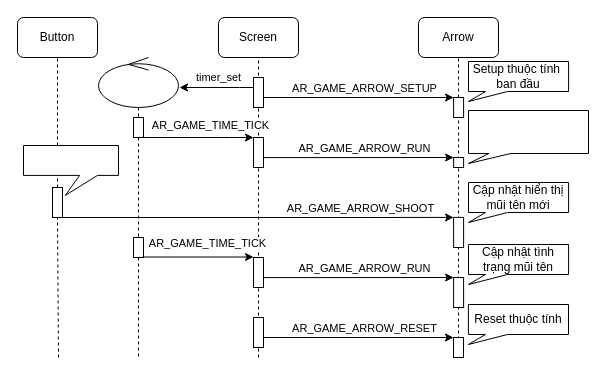
The diagram is 606 pixels wide and 376 high, and some of its shapes have lost their labels. The centre of each missing label's shape, as x and y in pixels:
"button [Mode]" belongs at point (70, 169).
"Cập nhật tình trạng mũi tên nhưng không có tên bắn ra" belongs at point (528, 137).
"Timer 100ms" belongs at point (138, 207).
